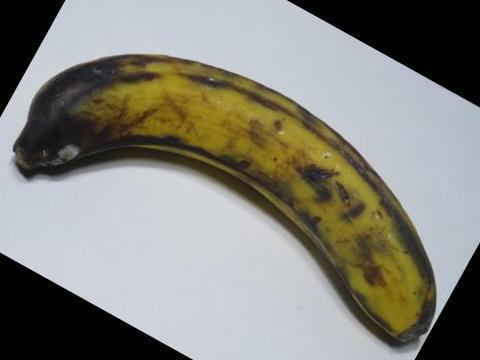overripe: (2, 41, 444, 345)
rotten: (0, 40, 170, 181)
